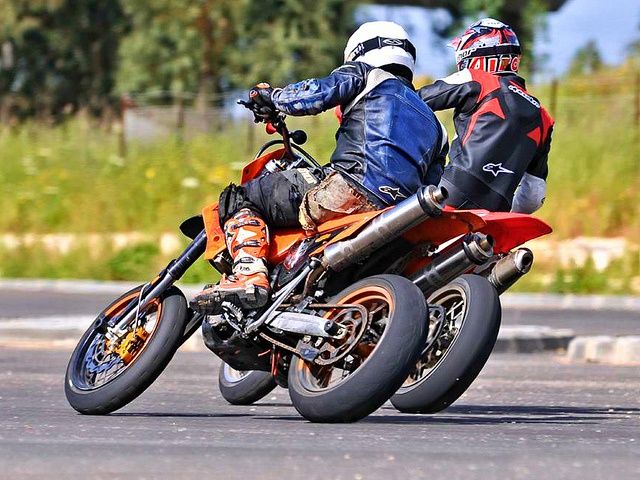non-vehicle: (66, 183, 455, 426), (388, 207, 548, 416)
